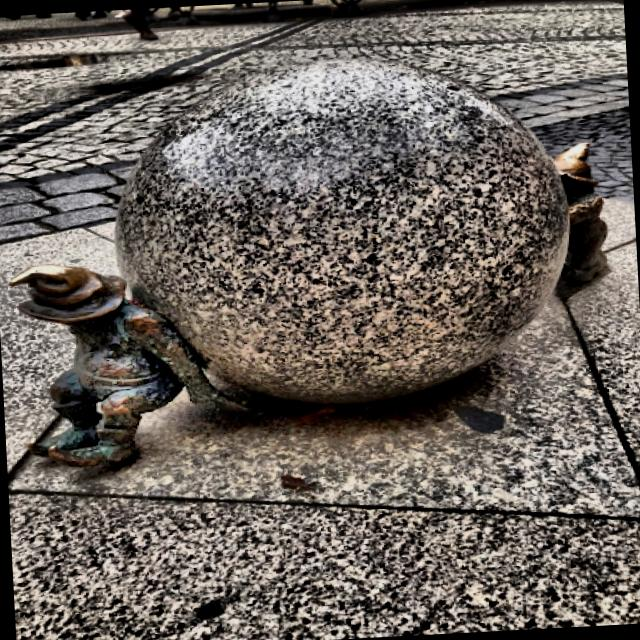Syzyfki: (0, 39, 624, 481)
